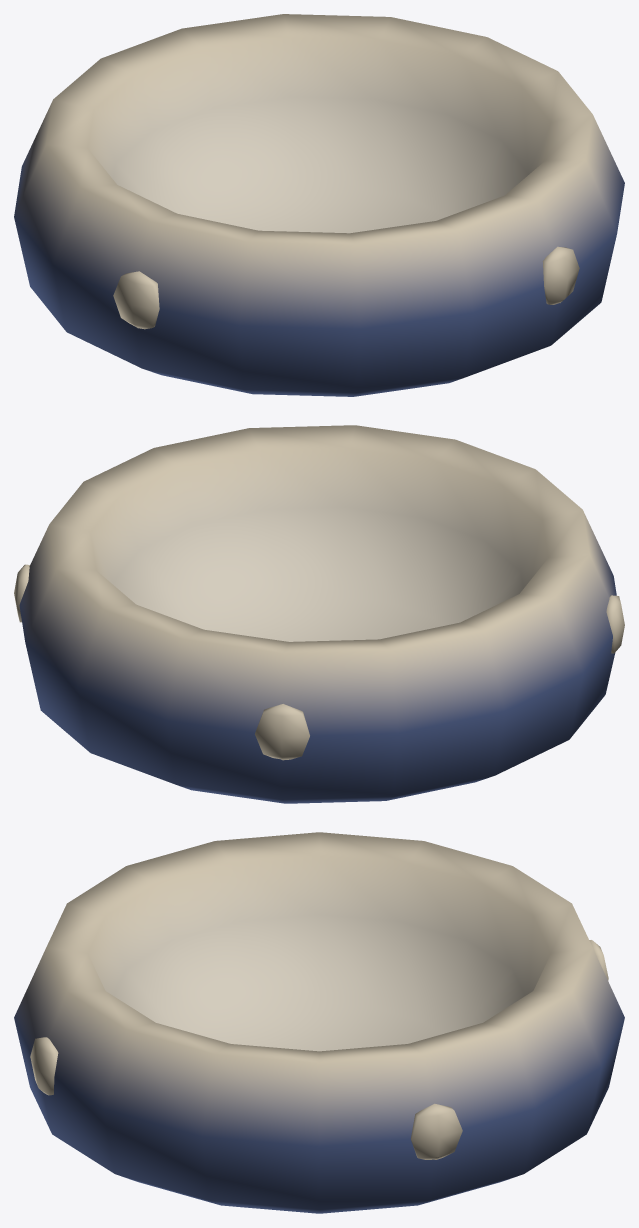
File: food_bowl.glb
3 renders of one model, top to bottom at view 1: azimuth 30°, elevation 25°; view 2: azimuth 150°, elevation 25°; view 3: azimuth 270°, elevation 25°, orthographic.
Parts seen in each view (by area): view 1: food_bowl; view 2: food_bowl; view 3: food_bowl.
Part boxes in pixels (bbox=[...]): food_bowl: bbox=[14, 14, 624, 396]; food_bowl: bbox=[14, 425, 624, 803]; food_bowl: bbox=[14, 832, 624, 1213].
Bounding box in the file's own units: 0.19 × 0.054 × 0.19.
